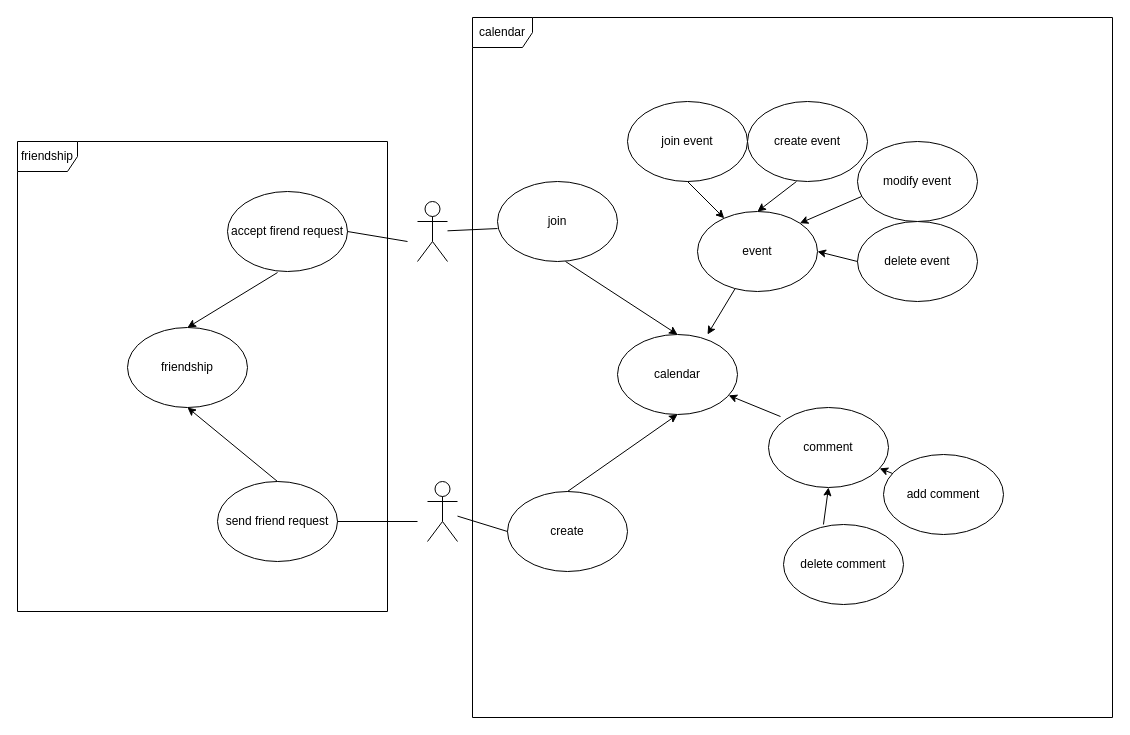
Some shapes in this 1130 by 735 pixel diagram are drawn without their labels. Each missing label, with the centre of its shape:
Calendar Admin: point 442,511
Friend Of Admin: point 432,231
